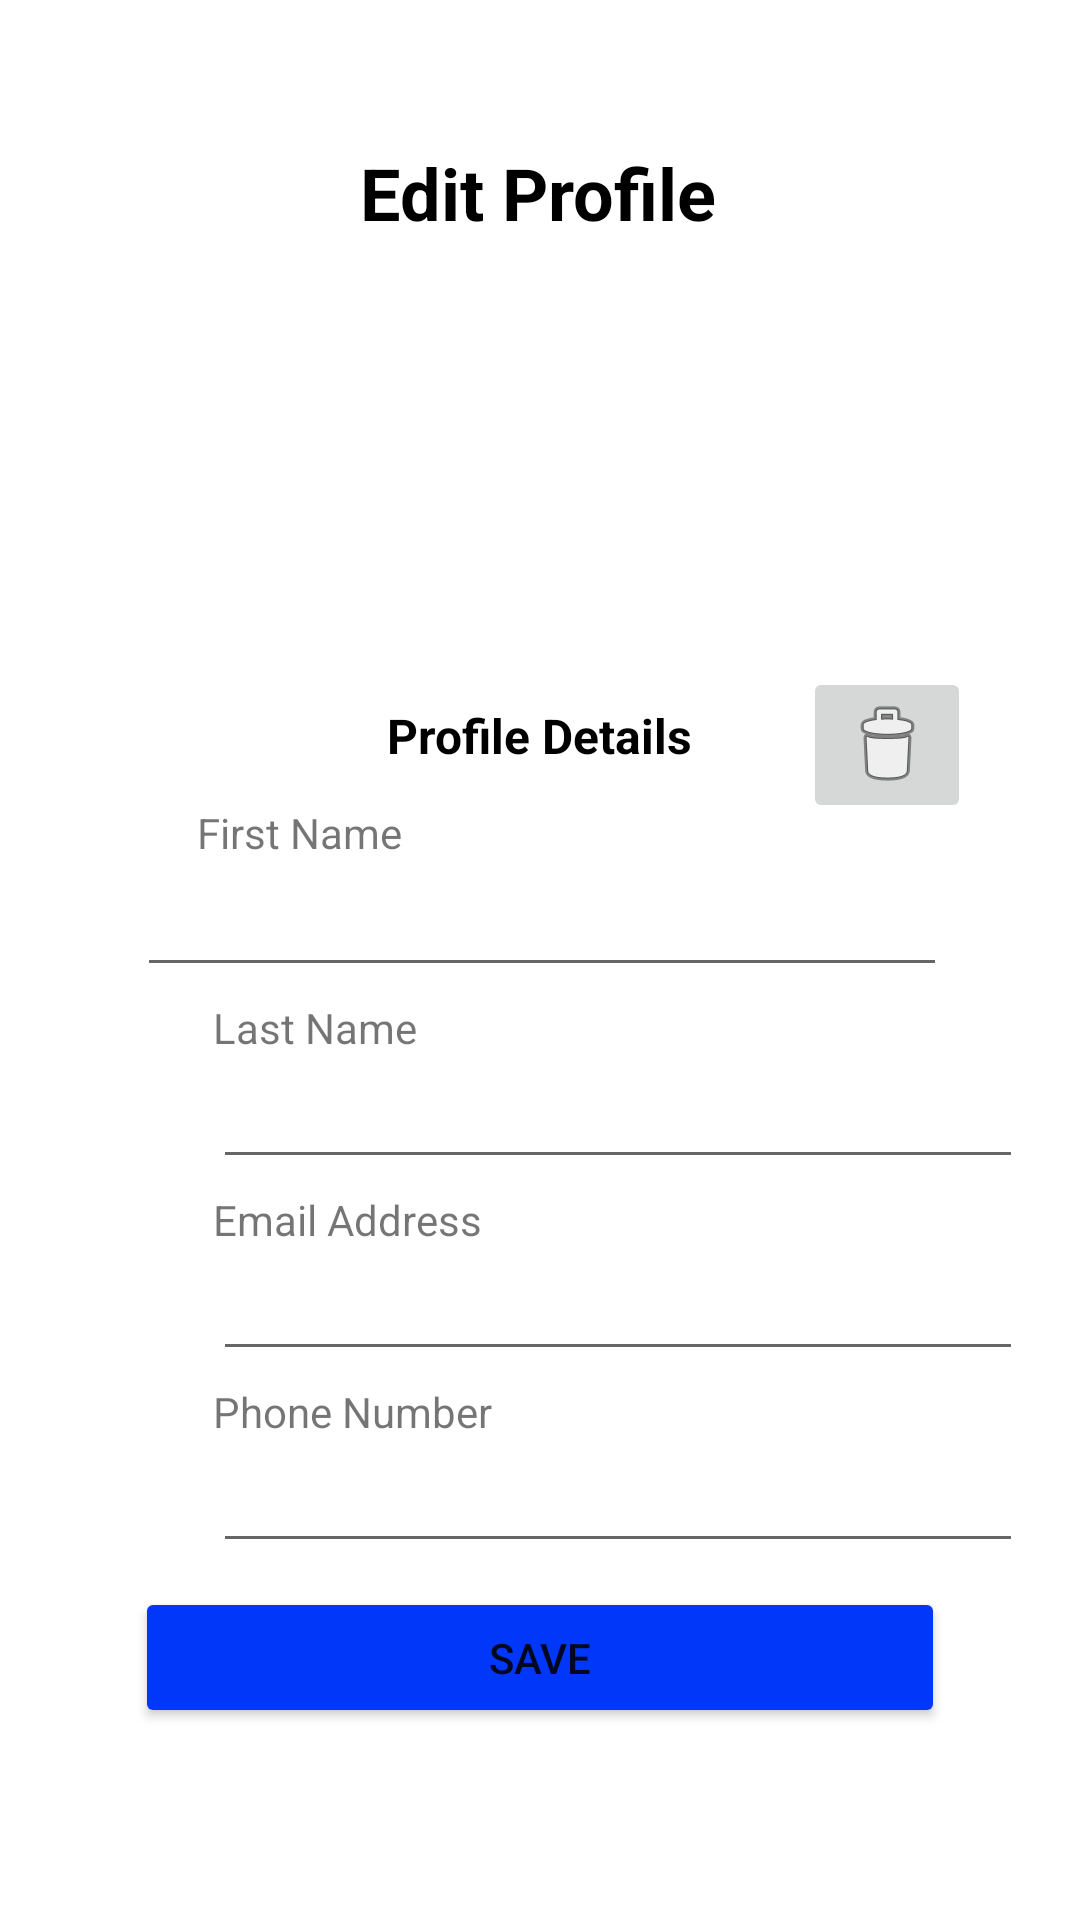

Point at icon controls on the screen. Image size 1080*1920, points as point (x, y).
delete: point (887, 745)
